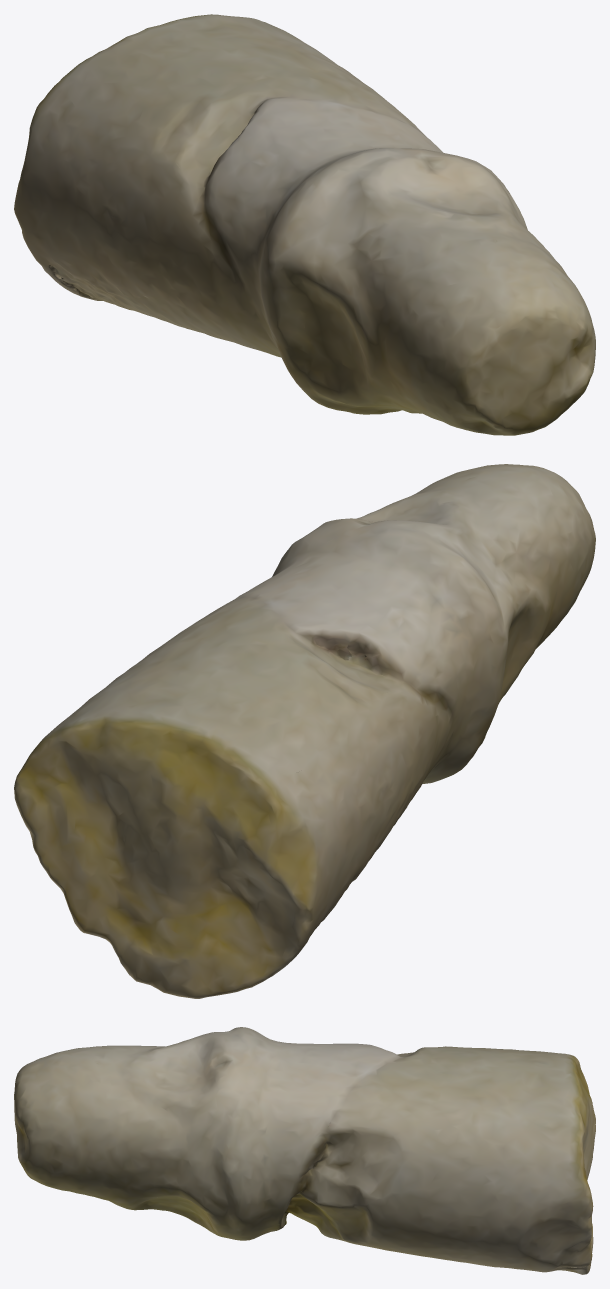
The picture shows the model from 3 angles, top to bottom: view 1: azimuth 30°, elevation 25°; view 2: azimuth 150°, elevation 25°; view 3: azimuth 270°, elevation 25°; orthographic projection. The views are drawn at different scales.
Parts seen in each view (by area): view 1: Object_2; view 2: Object_2; view 3: Object_2.
Part boxes in pixels (<box>): Object_2: <box>14,14,595,435</box>; Object_2: <box>14,464,595,998</box>; Object_2: <box>14,1027,595,1274</box>.
Size of the model in its own units: 0.3812 by 0.3706 by 0.8598.
